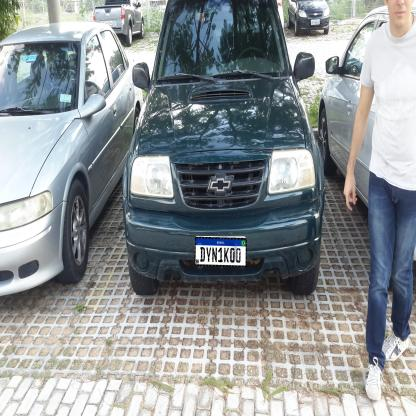PlacaM: (194, 237, 246, 267)
